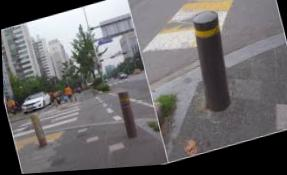Animal: (182, 10, 241, 116), (115, 91, 141, 141), (28, 110, 50, 149)
